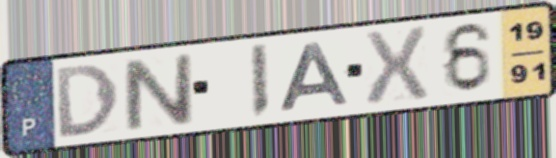6: (439, 21, 494, 96)
A: (276, 39, 354, 113)
D: (52, 61, 122, 141)
I: (248, 41, 271, 121)
N: (119, 51, 198, 134)
X: (360, 24, 432, 110)
